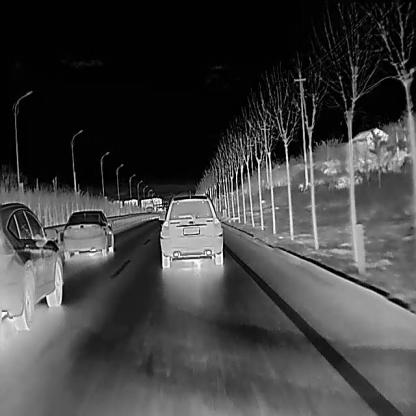car: (0, 201, 62, 331), (159, 191, 223, 266), (60, 207, 114, 257)
truck: (145, 203, 156, 214)
